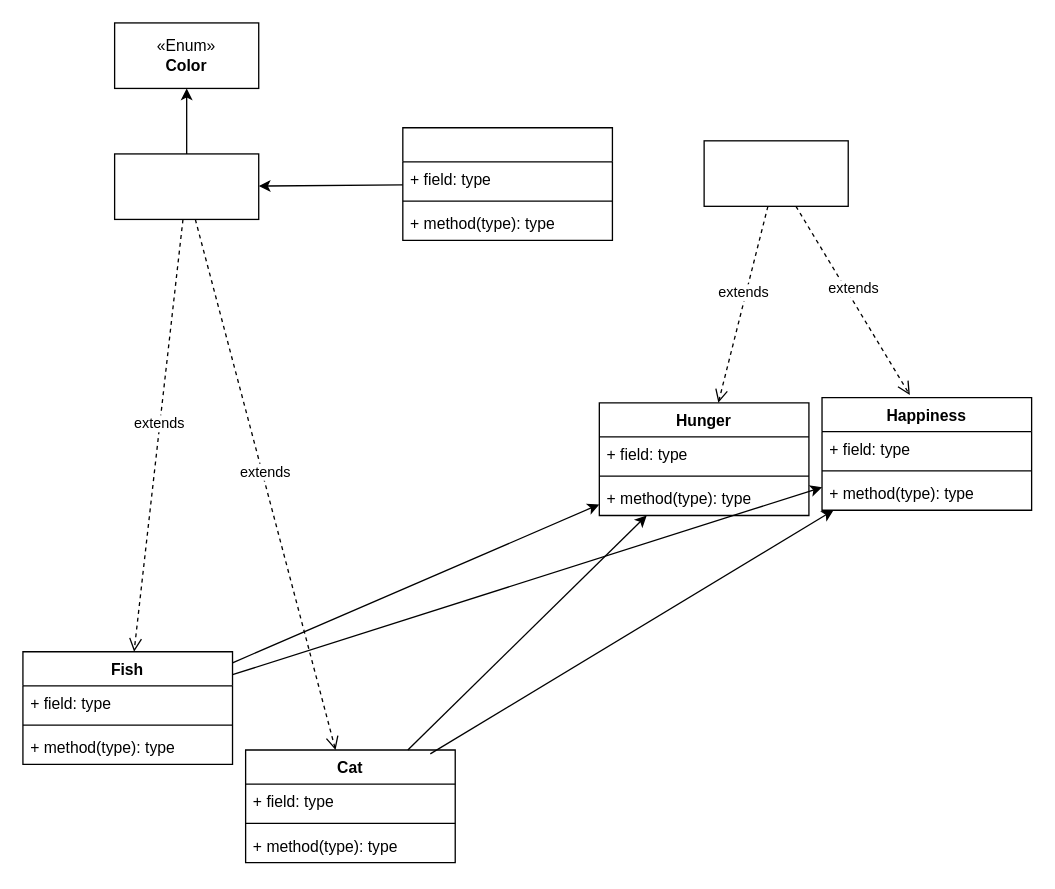
Image size: 1055x889. Some labels were removed from this diagram. Each missing label, with the box of its shape:
Owner: (402, 126, 612, 240)
«interface» Attributes: (703, 140, 848, 206)
«interface» Pet: (113, 153, 259, 219)
